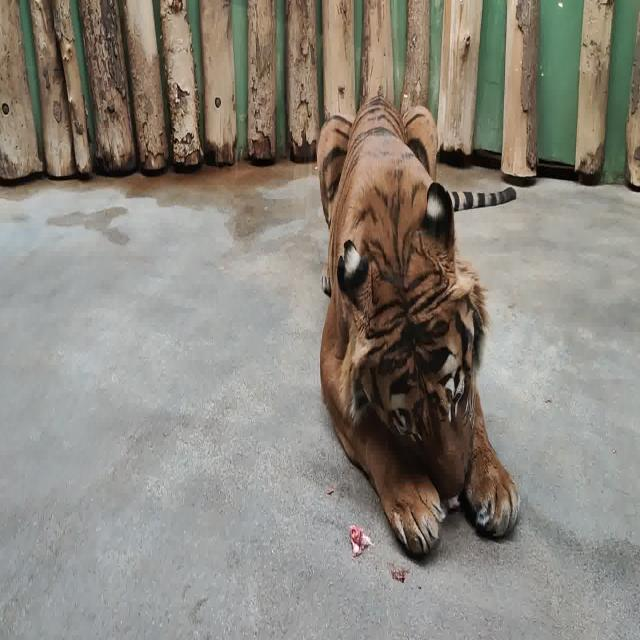tiger: (316, 94, 521, 560)
